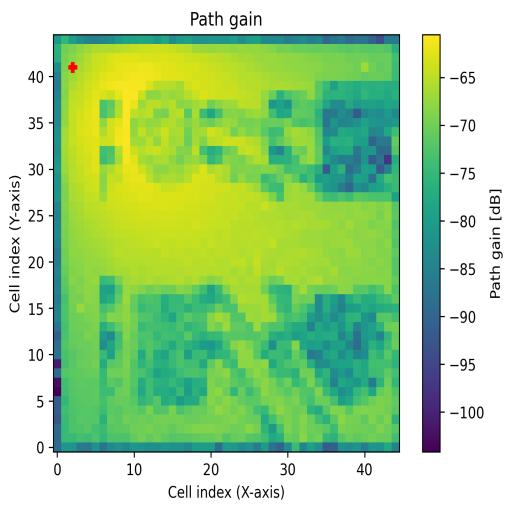Concrete: (315, 80, 392, 193)
Glass: (130, 79, 198, 184)
Metal: (306, 294, 393, 406)
Wood: (130, 285, 208, 405)
